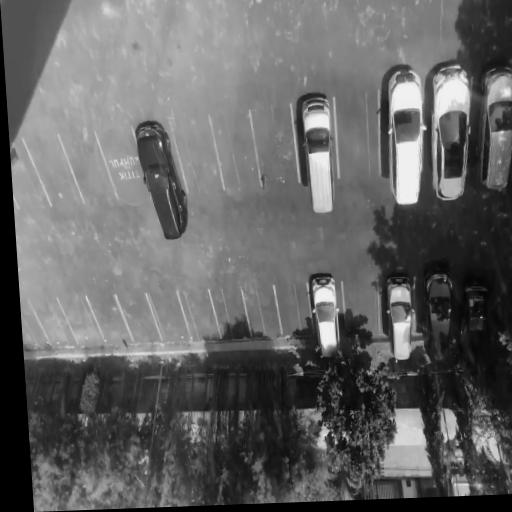Car: (130, 116, 194, 245), (432, 64, 471, 203), (387, 66, 424, 208), (479, 60, 512, 198), (300, 98, 338, 214), (452, 277, 490, 364), (309, 272, 342, 364), (425, 263, 455, 364), (384, 275, 415, 361)
Space Available: (58, 130, 117, 205), (22, 137, 84, 207), (333, 89, 380, 180), (170, 114, 223, 193), (248, 104, 299, 185), (208, 107, 259, 188), (94, 128, 149, 198), (9, 139, 52, 210), (208, 285, 252, 341), (239, 280, 282, 337), (115, 293, 161, 343), (86, 293, 131, 343), (176, 288, 220, 339), (274, 279, 314, 335), (57, 298, 105, 344), (147, 292, 191, 342), (28, 300, 76, 345), (342, 284, 379, 340), (20, 301, 50, 350)
